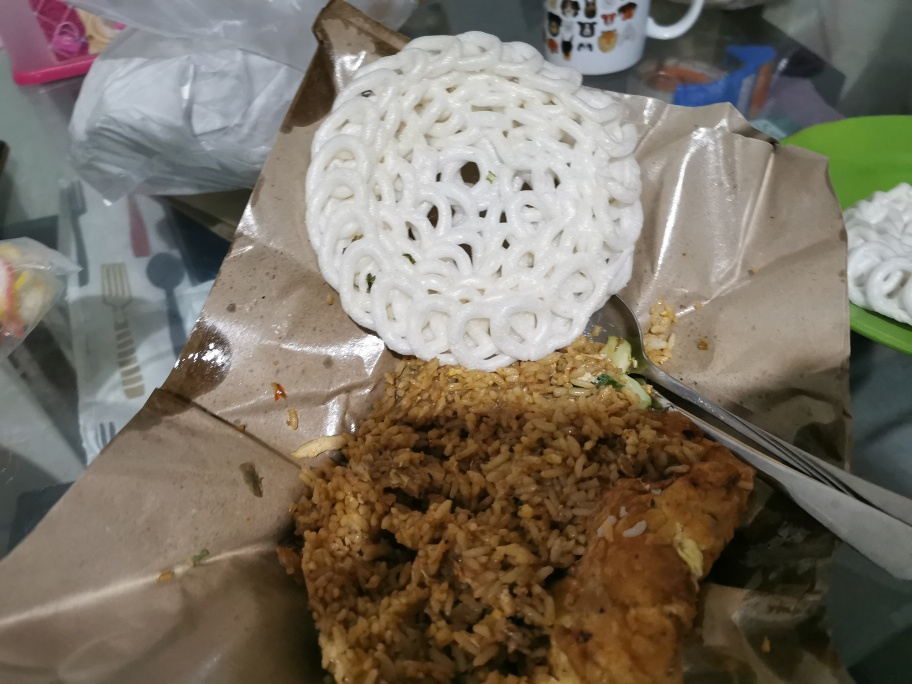kerupuk: (308, 32, 642, 354)
nasi goreng: (298, 360, 748, 684)
